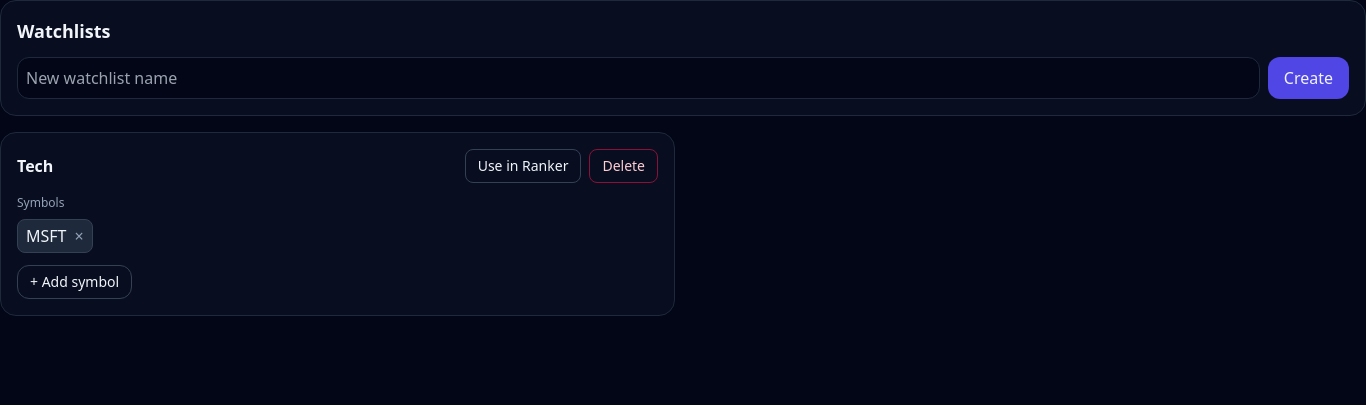
it: Flow: Watchlist management › user adds and removes symbols in a watchlist
Expected: the text "Tech" is shown, [17,154,53,178]
Expected: the text "MSFT" is shown, [26,225,66,247]
Click the button "+ Add symbol": (75, 282) [17,265,132,299]
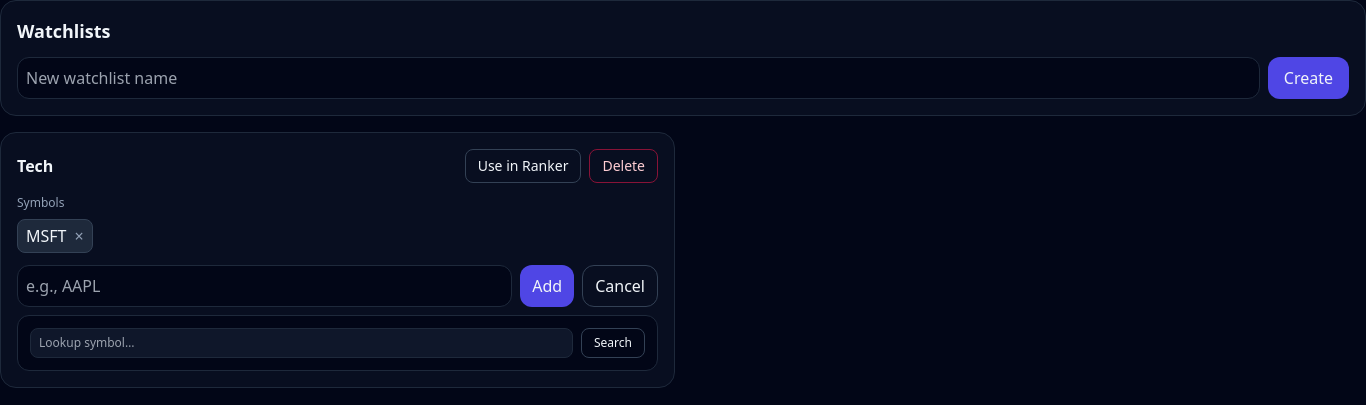
In the field with placeholder "e.g., AAPL": (265, 286) [17,265,512,307], type "AAPL"
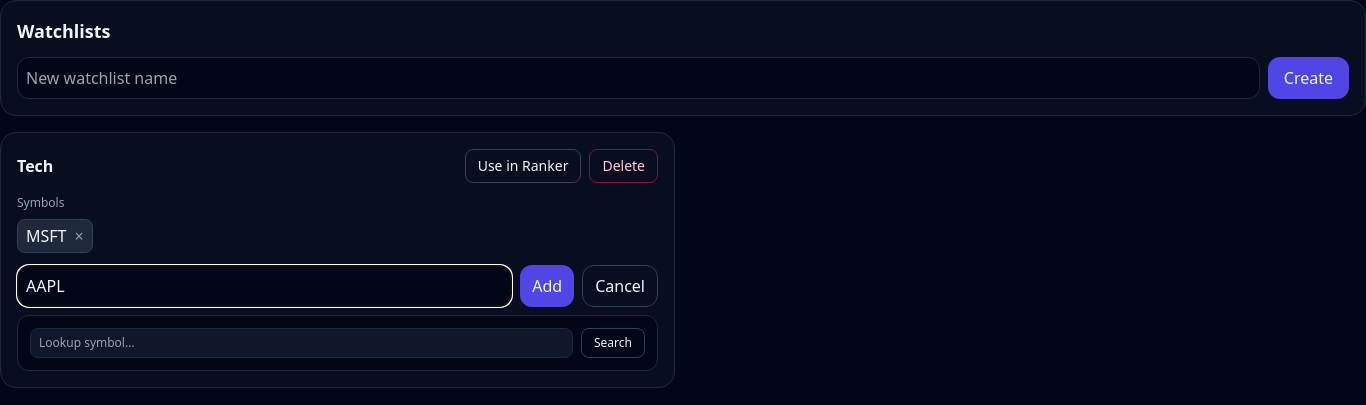
Click the button "Add": (547, 286) [520,265,574,307]
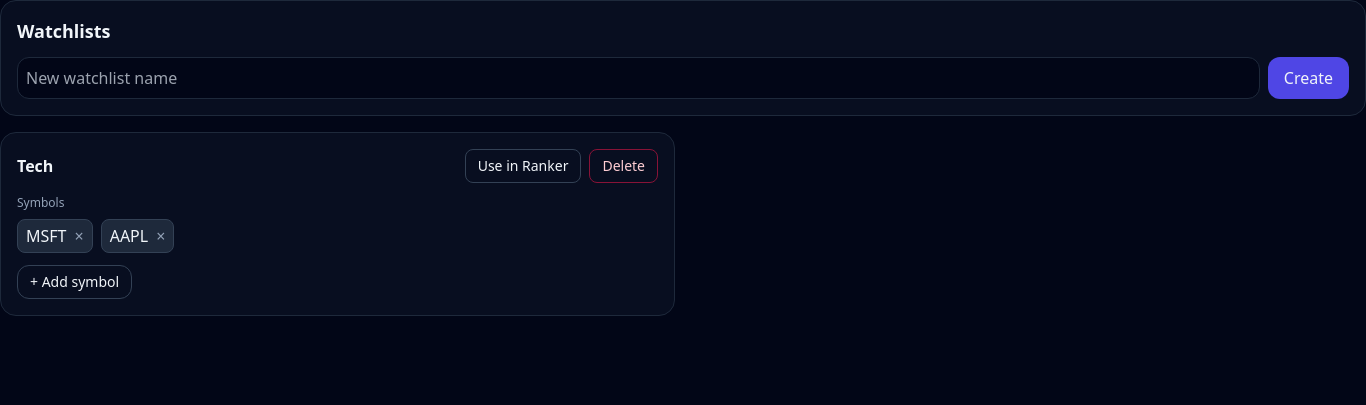
Result: the text "AAPL" is shown at [110,225,148,247]
remove MSFT
Click the button titled "Remove" next to "MSFT": (79, 236) [74,224,84,248]
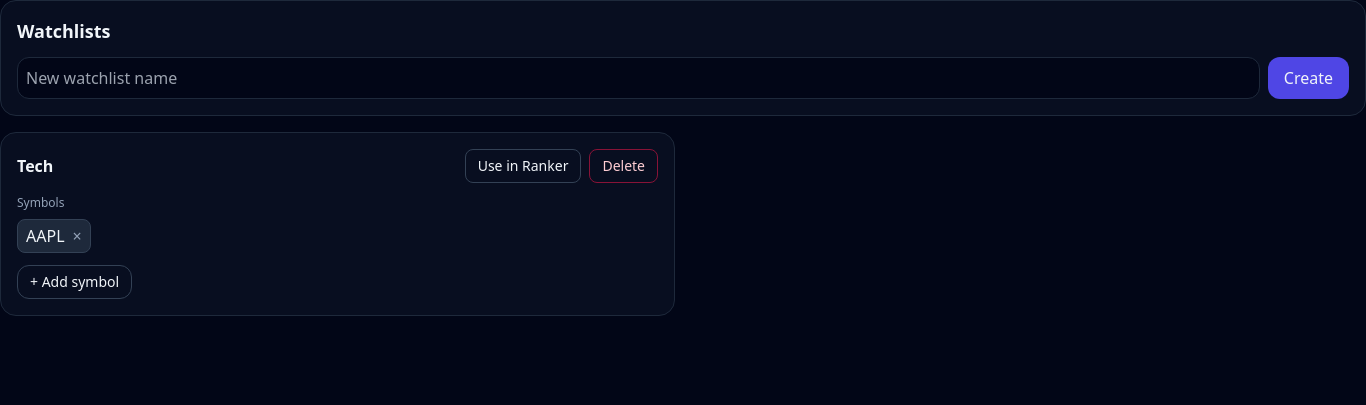
Result: the text "MSFT" is gone
